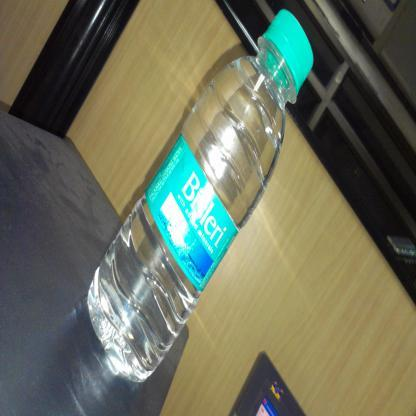bottle: (82, 0, 320, 416)
